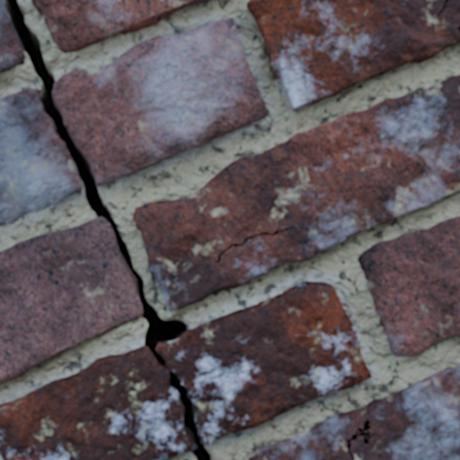brick: (134, 75, 459, 309), (0, 218, 141, 382), (248, 0, 459, 109), (249, 367, 459, 459), (359, 217, 459, 355), (32, 0, 208, 51), (0, 0, 24, 72)
broken_brick: (54, 17, 268, 185), (157, 280, 372, 445), (0, 345, 195, 459), (0, 87, 82, 226)
crack: (2, 0, 216, 459), (436, 0, 448, 18)
